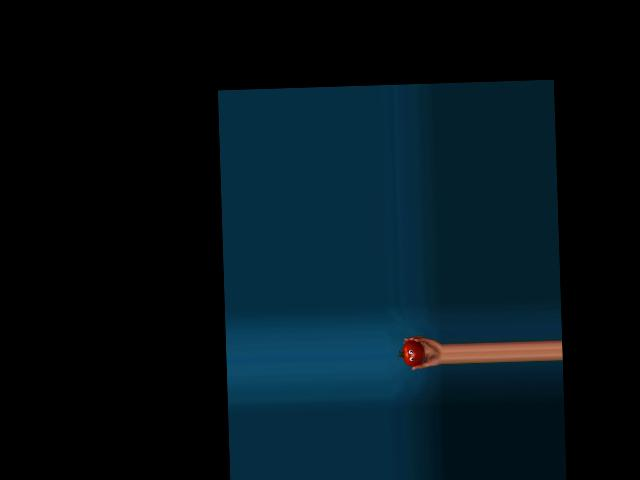tomato: (402, 339, 425, 367)
